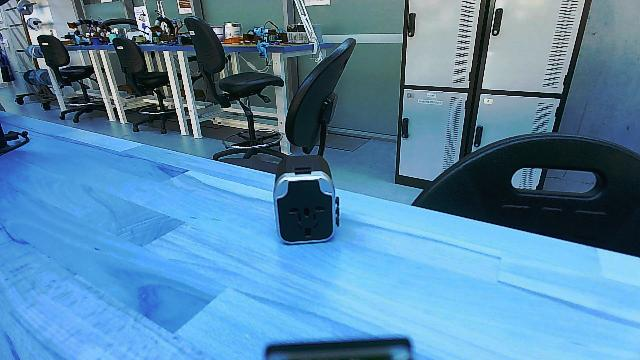adapter: (261, 148, 343, 250)
